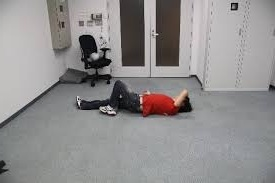fall: (74, 78, 197, 122)
